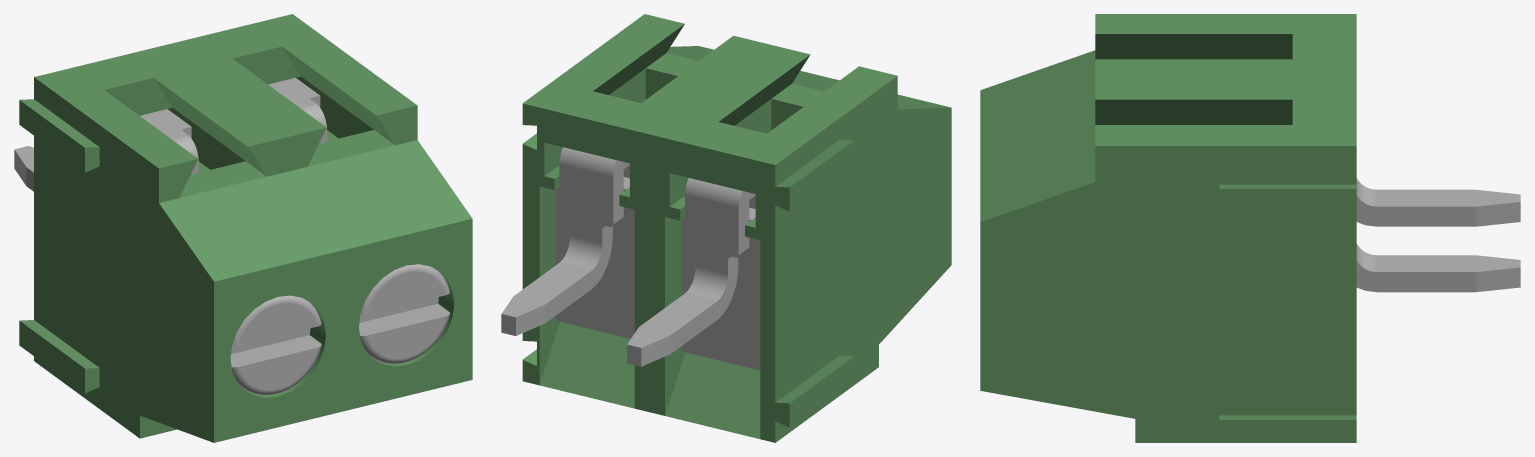
3 renders of one model, left to right at view 1: azimuth 30°, elevation 25°; view 2: azimuth 150°, elevation 25°; view 3: azimuth 270°, elevation 25°, orthographic. The views are drawn at different scales.
Parts seen in each view (by area): view 1: 691214110002_1, 691214110002_6, 691214110002_7, 691214110002_5, 691214110002_4; view 2: 691214110002_1, 691214110002_4, 691214110002_5, 691214110002_3, 691214110002_2; view 3: 691214110002_1, 691214110002_5, 691214110002_4.
Boxes of the visible parts, box(x1,y1,x2,y2) form: 691214110002_1: box(19, 14, 472, 442); 691214110002_6: box(359, 264, 449, 363); 691214110002_7: box(230, 295, 321, 395); 691214110002_5: box(14, 109, 198, 191); 691214110002_4: box(268, 77, 327, 143); 691214110002_1: box(522, 14, 951, 442); 691214110002_4: box(501, 147, 629, 335); 691214110002_5: box(627, 178, 755, 366); 691214110002_3: box(681, 207, 760, 370); 691214110002_2: box(556, 177, 634, 338); 691214110002_1: box(980, 14, 1356, 442); 691214110002_5: box(1356, 178, 1520, 226); 691214110002_4: box(1356, 243, 1520, 292).
Size of the model in its own units: 7.45 by 7.4 by 12.2.
